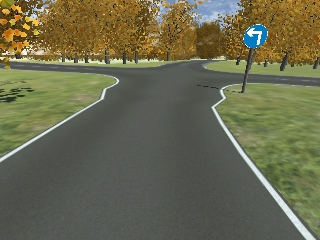left: (243, 23, 267, 46)
